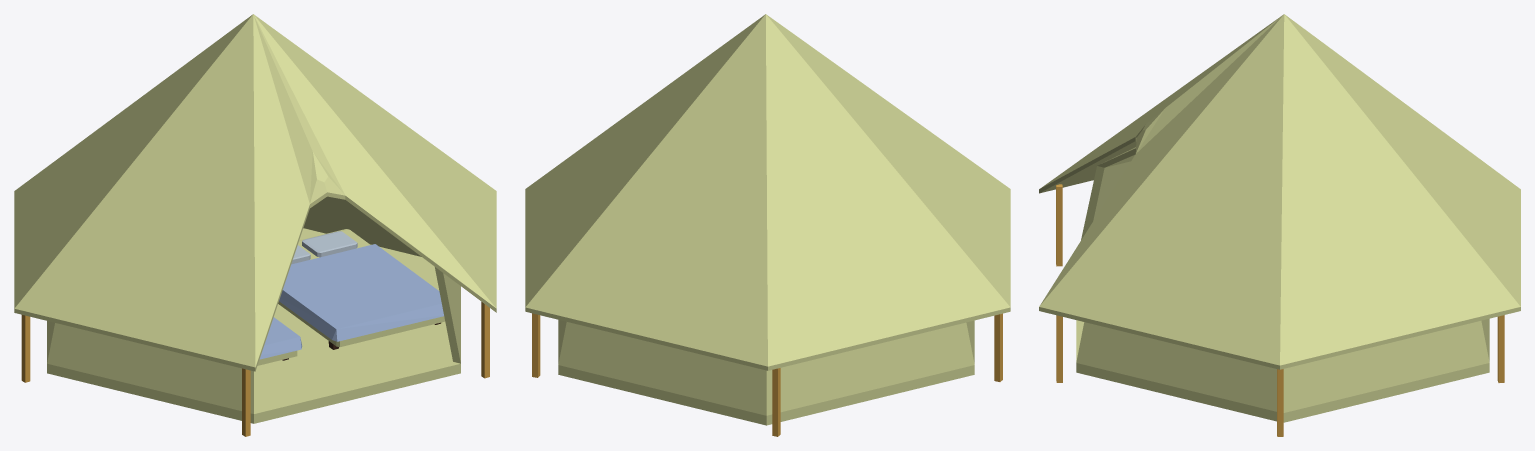
The model's file is glamping.glb.
3 views of the same model, side by side, from view 1: azimuth 30°, elevation 25°; view 2: azimuth 150°, elevation 25°; view 3: azimuth 270°, elevation 25° (orthographic).
Parts seen in each view (by area): view 1: Glamping Tent New; view 2: Glamping Tent New; view 3: Glamping Tent New.
Part boxes in pixels (x1,y1,x2,y2): Glamping Tent New: [14, 14, 496, 436]; Glamping Tent New: [525, 14, 1010, 436]; Glamping Tent New: [1039, 14, 1520, 436].
Bounding box in the file's own units: 5.11 × 3.14 × 4.43.
